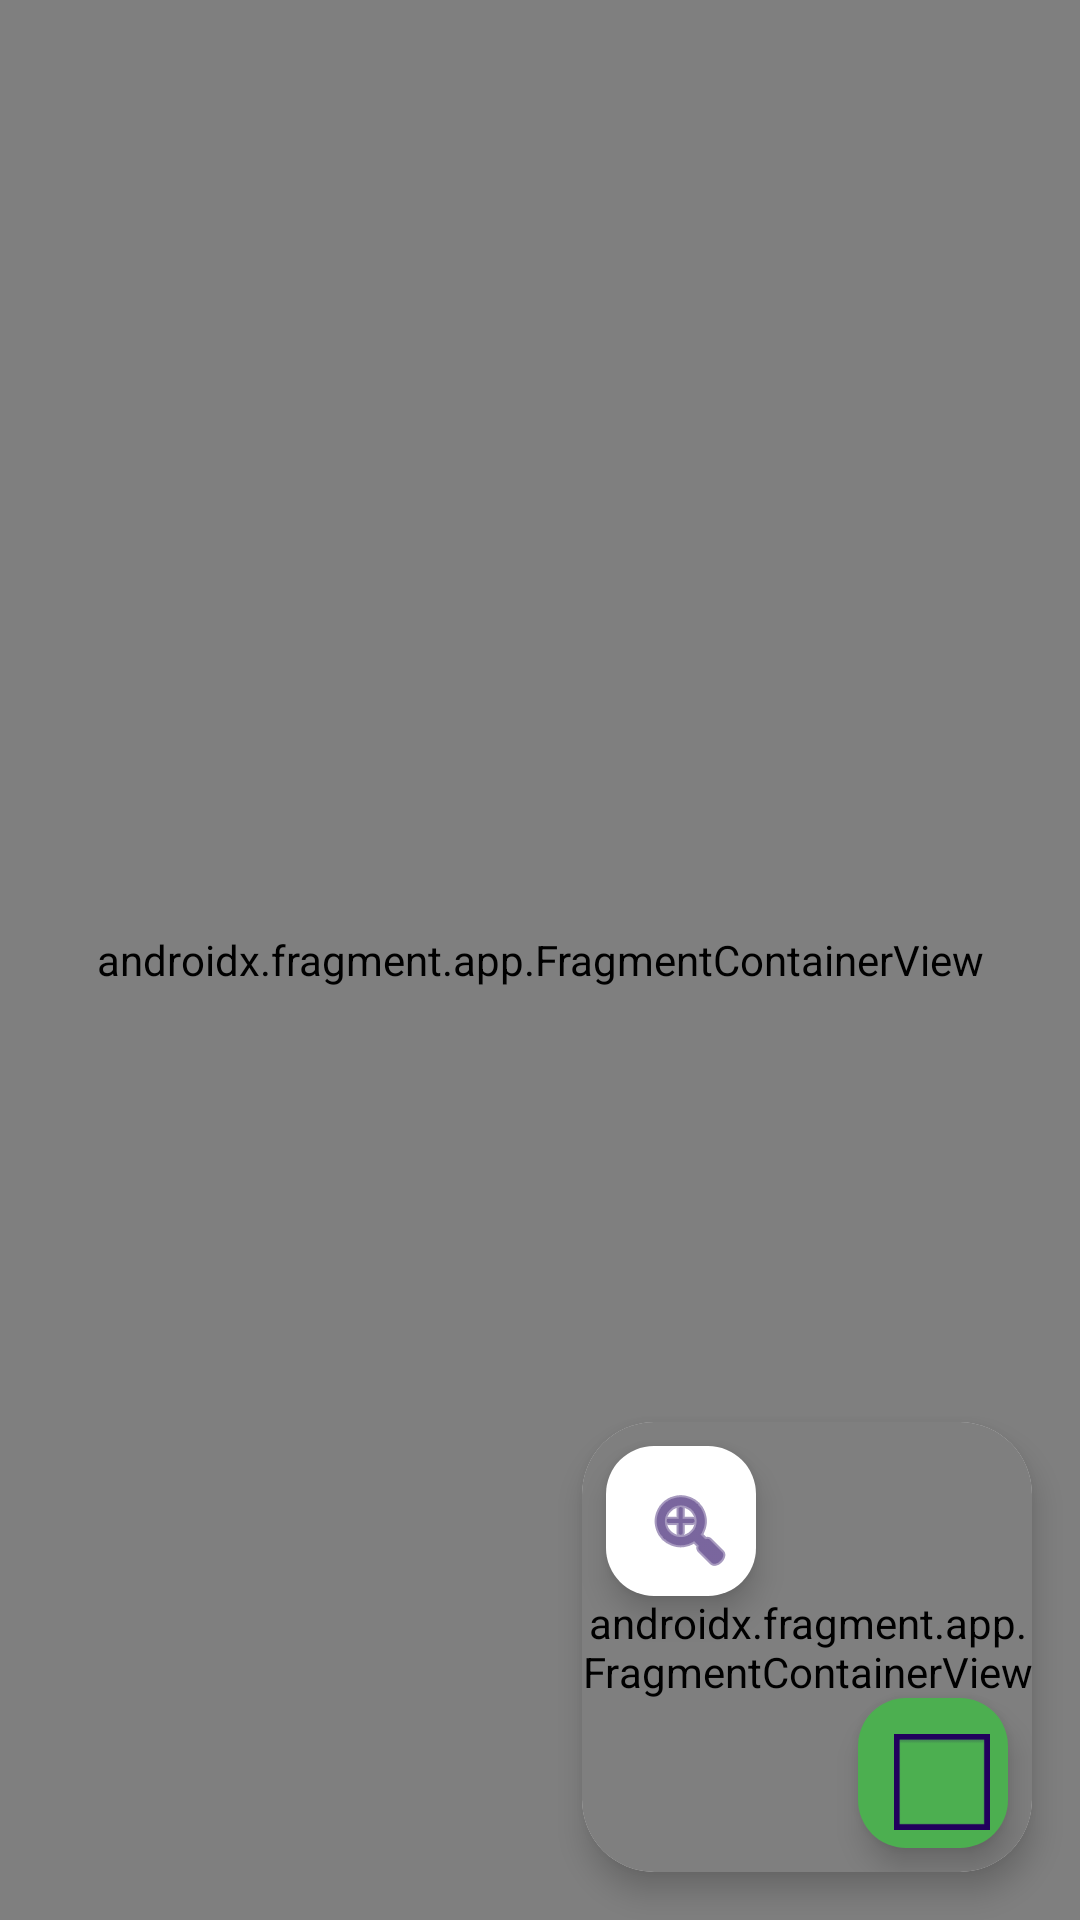

Icons on this 1080px x 1920px Android screen, each with its box as [left=x1, top=y1, right=x2, bottom=y2]:
End game: [left=858, top=1698, right=1008, bottom=1848]
Toggle map size: [left=606, top=1446, right=756, bottom=1596]
